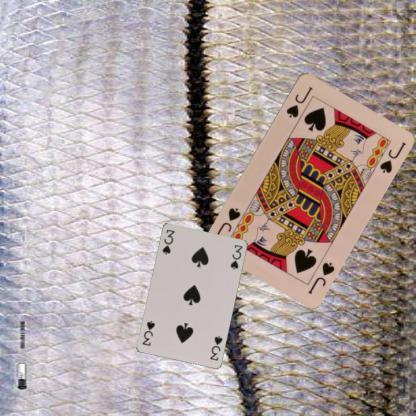3s: (160, 226, 176, 256), (208, 332, 224, 362)
Js: (304, 258, 336, 296), (284, 84, 314, 119)
